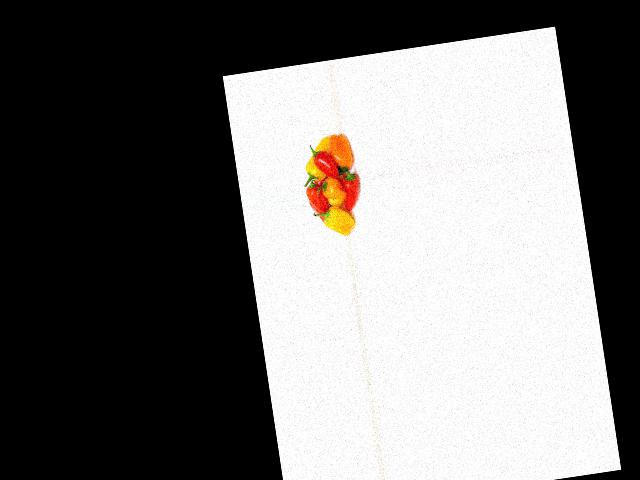bell_pepper: (299, 136, 335, 183)
